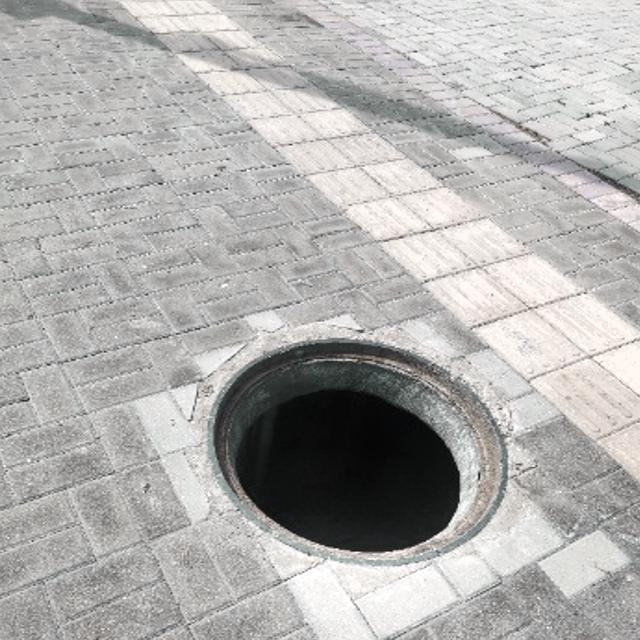lose: (209, 336, 511, 563)
